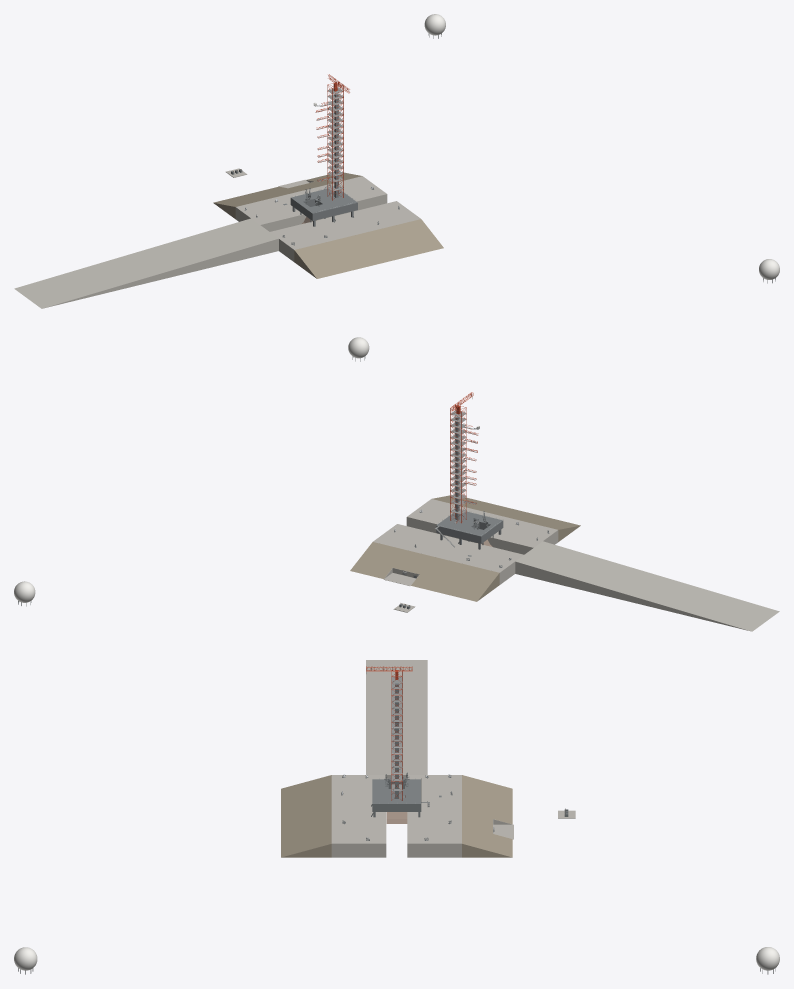
The model's file is pad-a-1972-12.lod1.glb.
3 views of the same model, one above another, from view 1: azimuth 30°, elevation 25°; view 2: azimuth 150°, elevation 25°; view 3: azimuth 270°, elevation 25° (orthographic). The views are drawn at different scales.
Visible parts, largest first — view 1: Hardstand_Concrete, Hardstand_Earth, Launcher_Base_Steel, Umbilical_Tower_Deck, Umbilical_Tower_Red, Storage_Spheres_White; view 2: Hardstand_Concrete, Hardstand_Earth, Launcher_Base_Steel, Umbilical_Tower_Deck, Umbilical_Tower_Red, Storage_Spheres_White; view 3: Hardstand_Concrete, Hardstand_Earth, Launcher_Base_Steel, Umbilical_Tower_Deck, Storage_Spheres_White, Umbilical_Tower_Red.
Boxes of the visible parts, bbox=[...] form: Hardstand_Concrete: bbox=[14, 176, 420, 308]; Hardstand_Earth: bbox=[213, 172, 443, 278]; Launcher_Base_Steel: bbox=[290, 189, 357, 220]; Umbilical_Tower_Deck: bbox=[327, 87, 343, 191]; Umbilical_Tower_Red: bbox=[327, 82, 343, 200]; Storage_Spheres_White: bbox=[424, 14, 779, 279]; Hardstand_Concrete: bbox=[373, 499, 779, 631]; Hardstand_Earth: bbox=[350, 495, 580, 601]; Launcher_Base_Steel: bbox=[436, 511, 503, 543]; Umbilical_Tower_Deck: bbox=[450, 410, 466, 514]; Umbilical_Tower_Red: bbox=[450, 405, 466, 523]; Storage_Spheres_White: bbox=[14, 337, 369, 602]; Hardstand_Concrete: bbox=[331, 660, 512, 857]; Hardstand_Earth: bbox=[281, 775, 512, 857]; Launcher_Base_Steel: bbox=[372, 779, 421, 811]; Umbilical_Tower_Deck: bbox=[391, 676, 402, 790]; Storage_Spheres_White: bbox=[14, 947, 779, 970]; Umbilical_Tower_Red: bbox=[391, 670, 402, 800].
Size of the model in its own units: 630 by 149 by 645.
